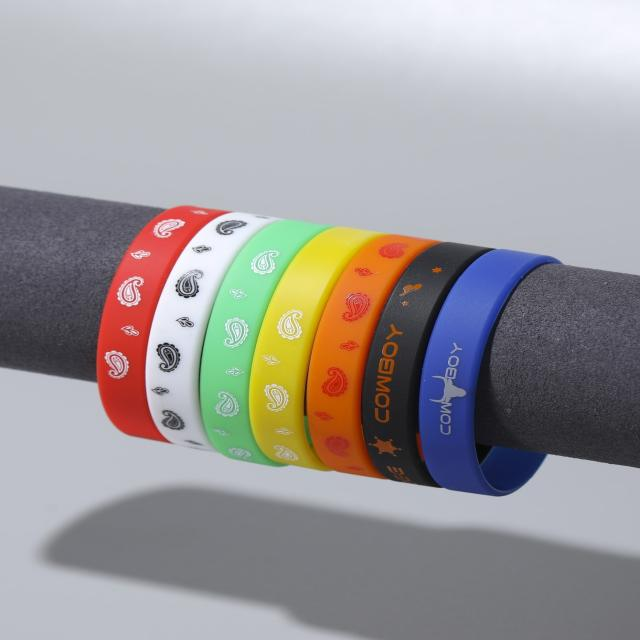bracelet: (35, 164, 554, 531)
